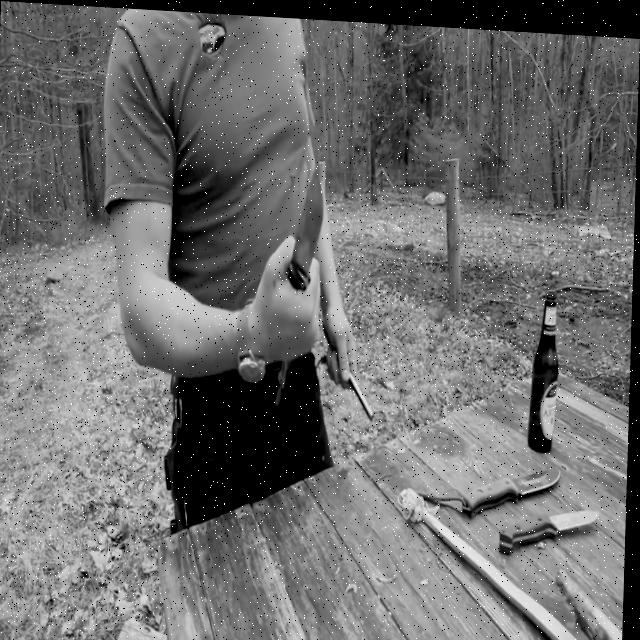knife: (464, 450, 562, 518), (500, 489, 602, 551), (287, 162, 326, 280)
